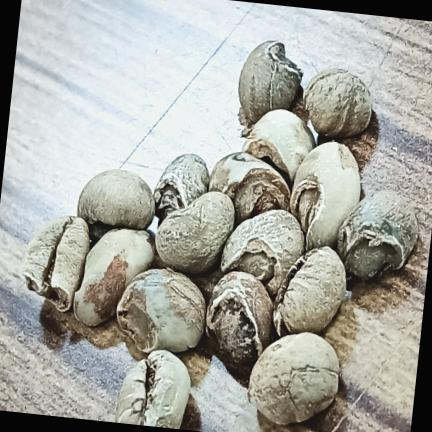broken: (248, 332, 339, 424), (74, 229, 154, 326), (290, 142, 360, 251), (117, 269, 206, 353), (338, 190, 418, 281), (221, 210, 305, 296), (273, 246, 346, 336), (155, 192, 235, 274), (23, 216, 90, 311), (206, 272, 273, 365), (115, 350, 191, 429), (209, 152, 290, 224), (77, 170, 155, 242), (242, 109, 315, 185), (239, 41, 303, 123), (303, 69, 372, 137), (47, 218, 90, 311), (154, 154, 209, 224)
